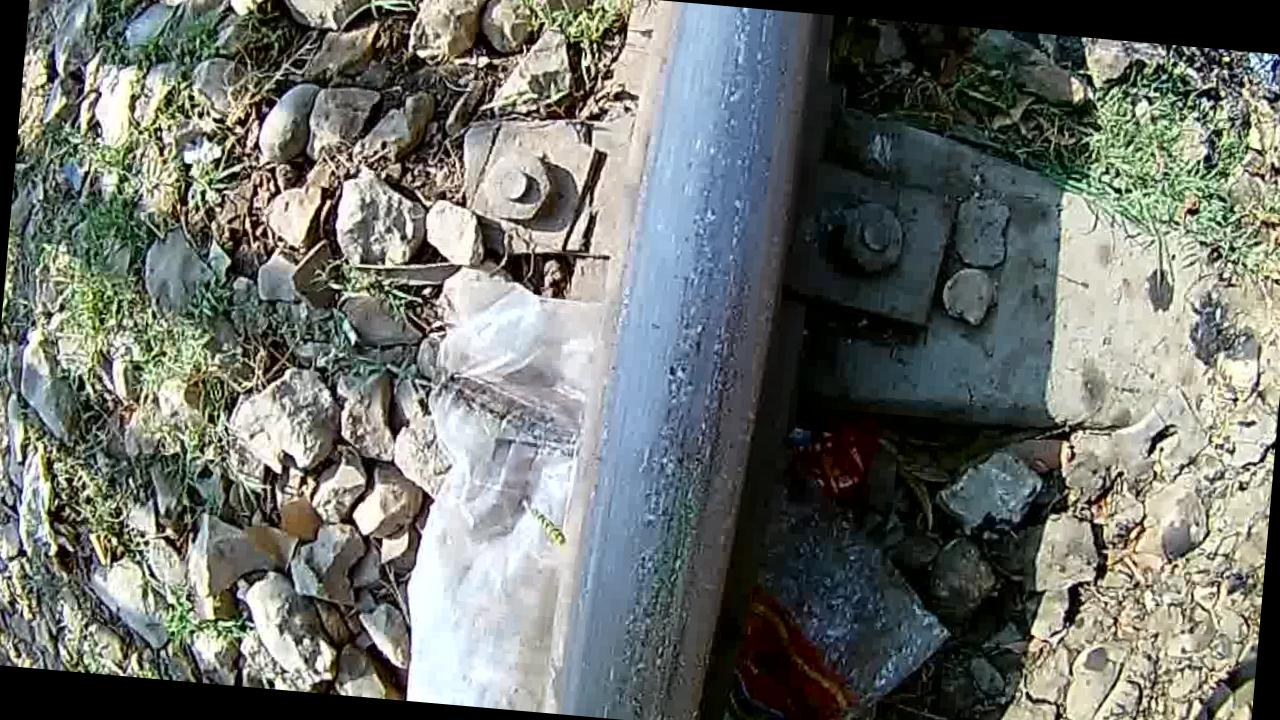clip_missing: (600, 0, 791, 720)
